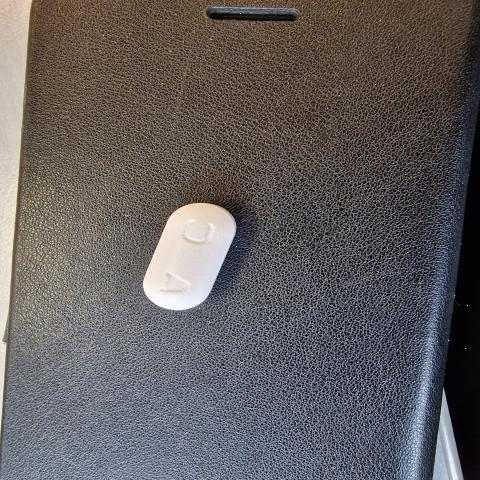Pill: (103, 188, 259, 322)
